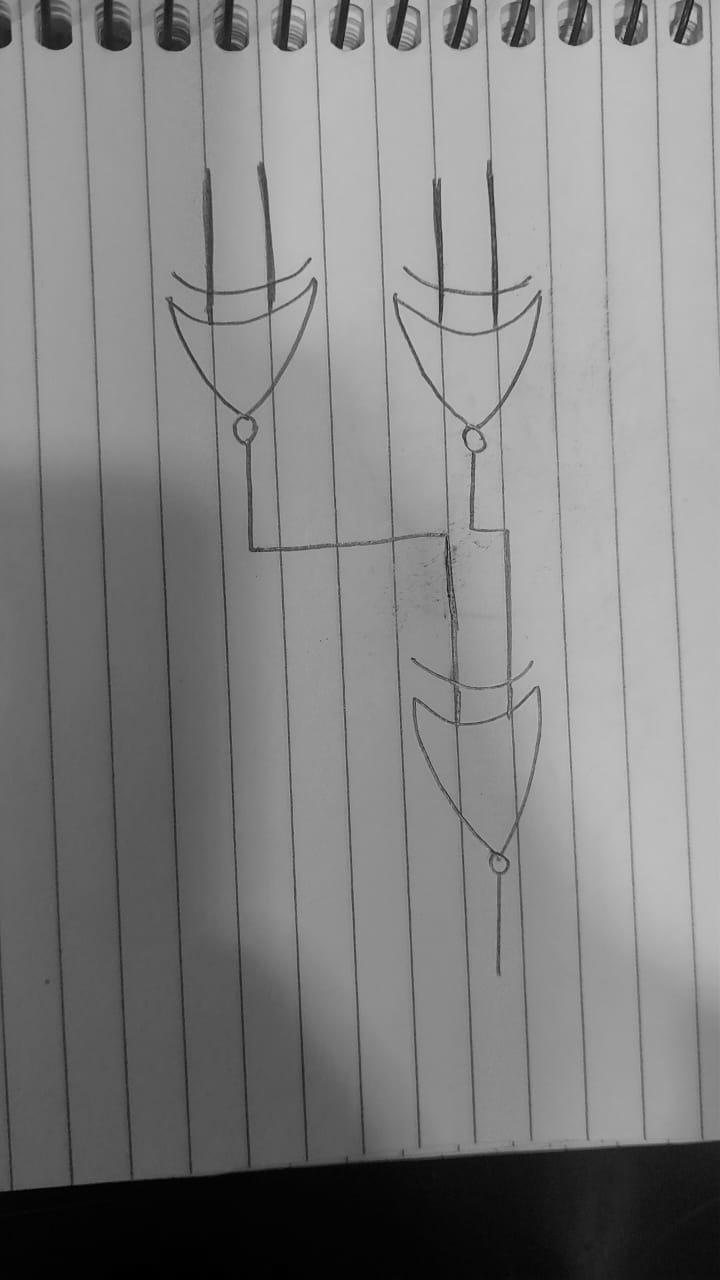XNOR: (388, 630, 604, 892), (382, 245, 580, 480), (150, 255, 341, 447)
